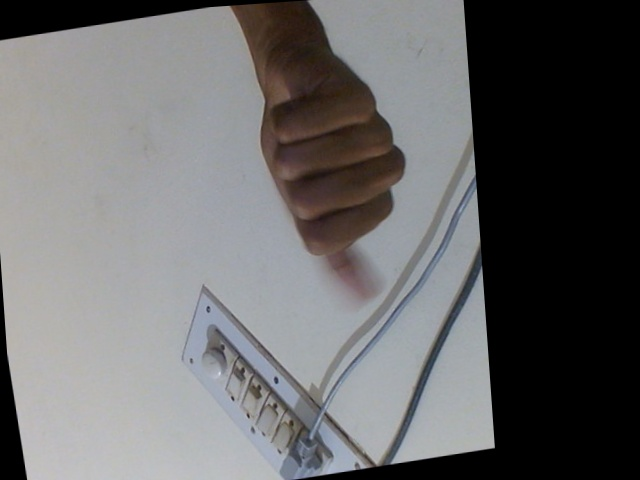hand: (241, 41, 410, 314)
